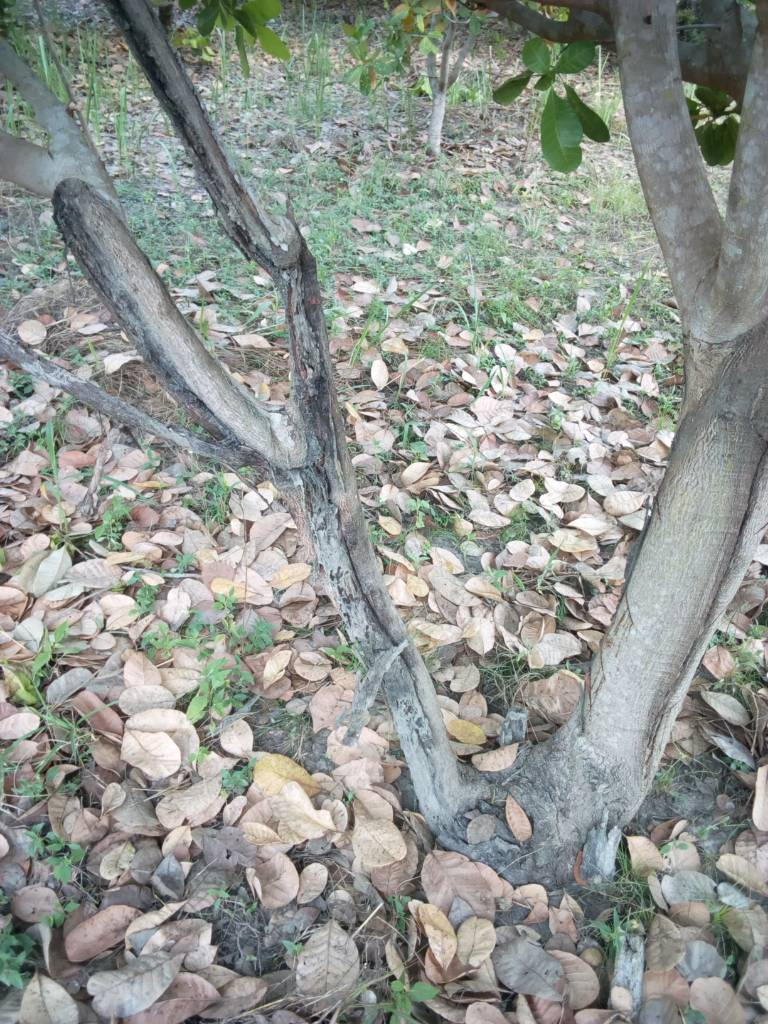Termites: (308, 482, 399, 700), (279, 244, 340, 460)
